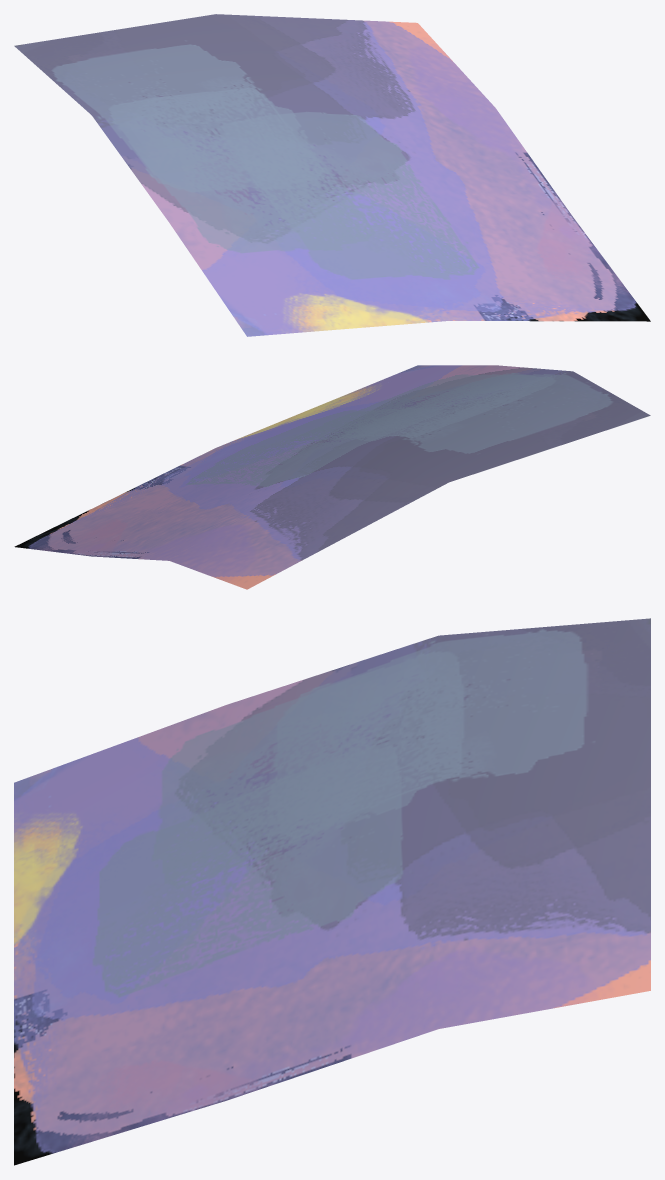
The model's file is S_BrushStroke_PurpleSmall.fbx.
3 renders of one model, top to bottom at view 1: azimuth 30°, elevation 25°; view 2: azimuth 210°, elevation 25°; view 3: azimuth 270°, elevation 25°, orthographic. The views are drawn at different scales.
Parts seen in each view (by area): view 1: S_BrushStroke_PurpleSmall; view 2: S_BrushStroke_PurpleSmall; view 3: S_BrushStroke_PurpleSmall.
Boxes of the visible parts, <box> form: S_BrushStroke_PurpleSmall: <box>14,14,650,336</box>; S_BrushStroke_PurpleSmall: <box>14,365,650,589</box>; S_BrushStroke_PurpleSmall: <box>14,618,650,1165</box>.
Bounding box in the file's own units: 1 × 0.4815 × 1.
